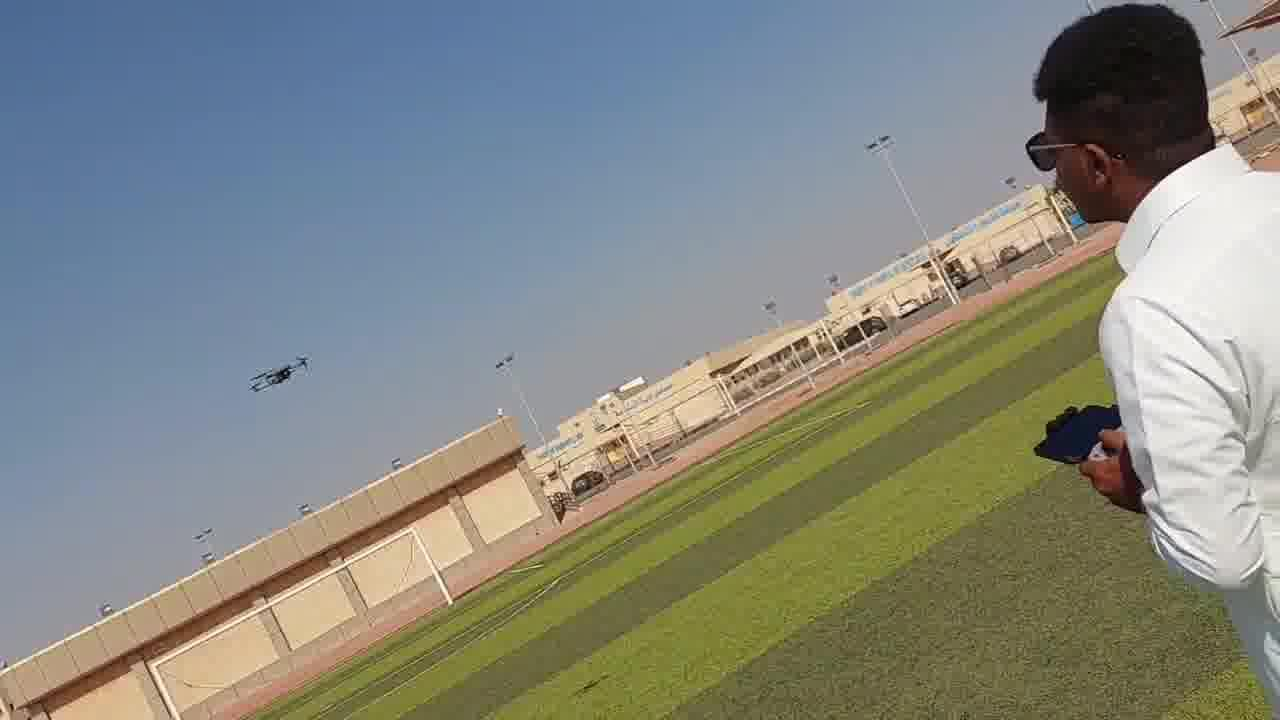drone: (215, 333, 330, 403)
